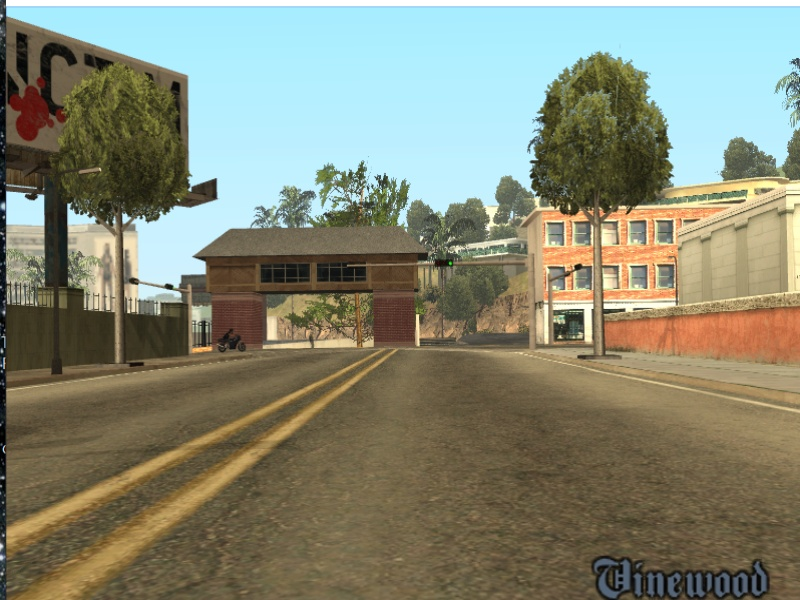pole: (44, 175, 72, 376), (522, 256, 542, 351), (545, 278, 558, 344), (188, 285, 197, 353)
tree: (105, 212, 131, 368), (586, 215, 611, 357)
vehicle: (215, 328, 247, 353)
